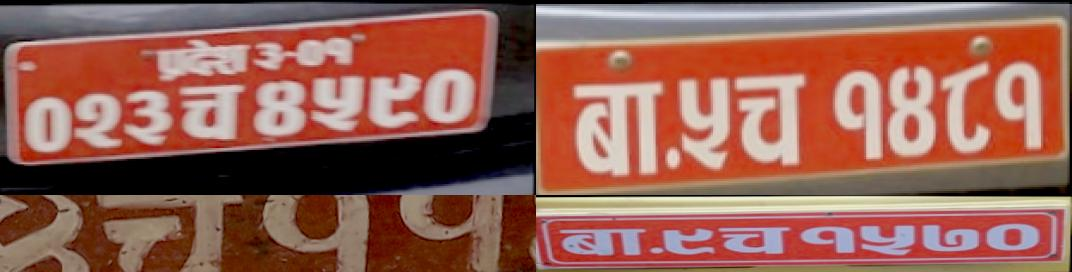0: (420, 63, 478, 127), (18, 92, 72, 152), (981, 221, 1045, 251), (296, 39, 324, 66)
1: (825, 66, 888, 162), (992, 57, 1051, 155), (795, 223, 859, 256), (324, 36, 354, 64)
2: (70, 89, 125, 149)
3: (259, 195, 375, 272), (396, 195, 508, 272), (123, 85, 175, 146), (251, 39, 282, 68)
4: (884, 63, 938, 162), (252, 76, 309, 133)
5: (0, 195, 96, 272), (672, 73, 732, 175), (308, 72, 368, 132), (856, 222, 918, 257)
7: (916, 222, 984, 253)
8: (934, 58, 994, 160)
9: (89, 195, 245, 272), (365, 69, 428, 129), (655, 225, 719, 258)
ba: (565, 78, 671, 182), (551, 226, 650, 260)
cha: (728, 70, 812, 172), (174, 79, 246, 144), (713, 223, 793, 258)
